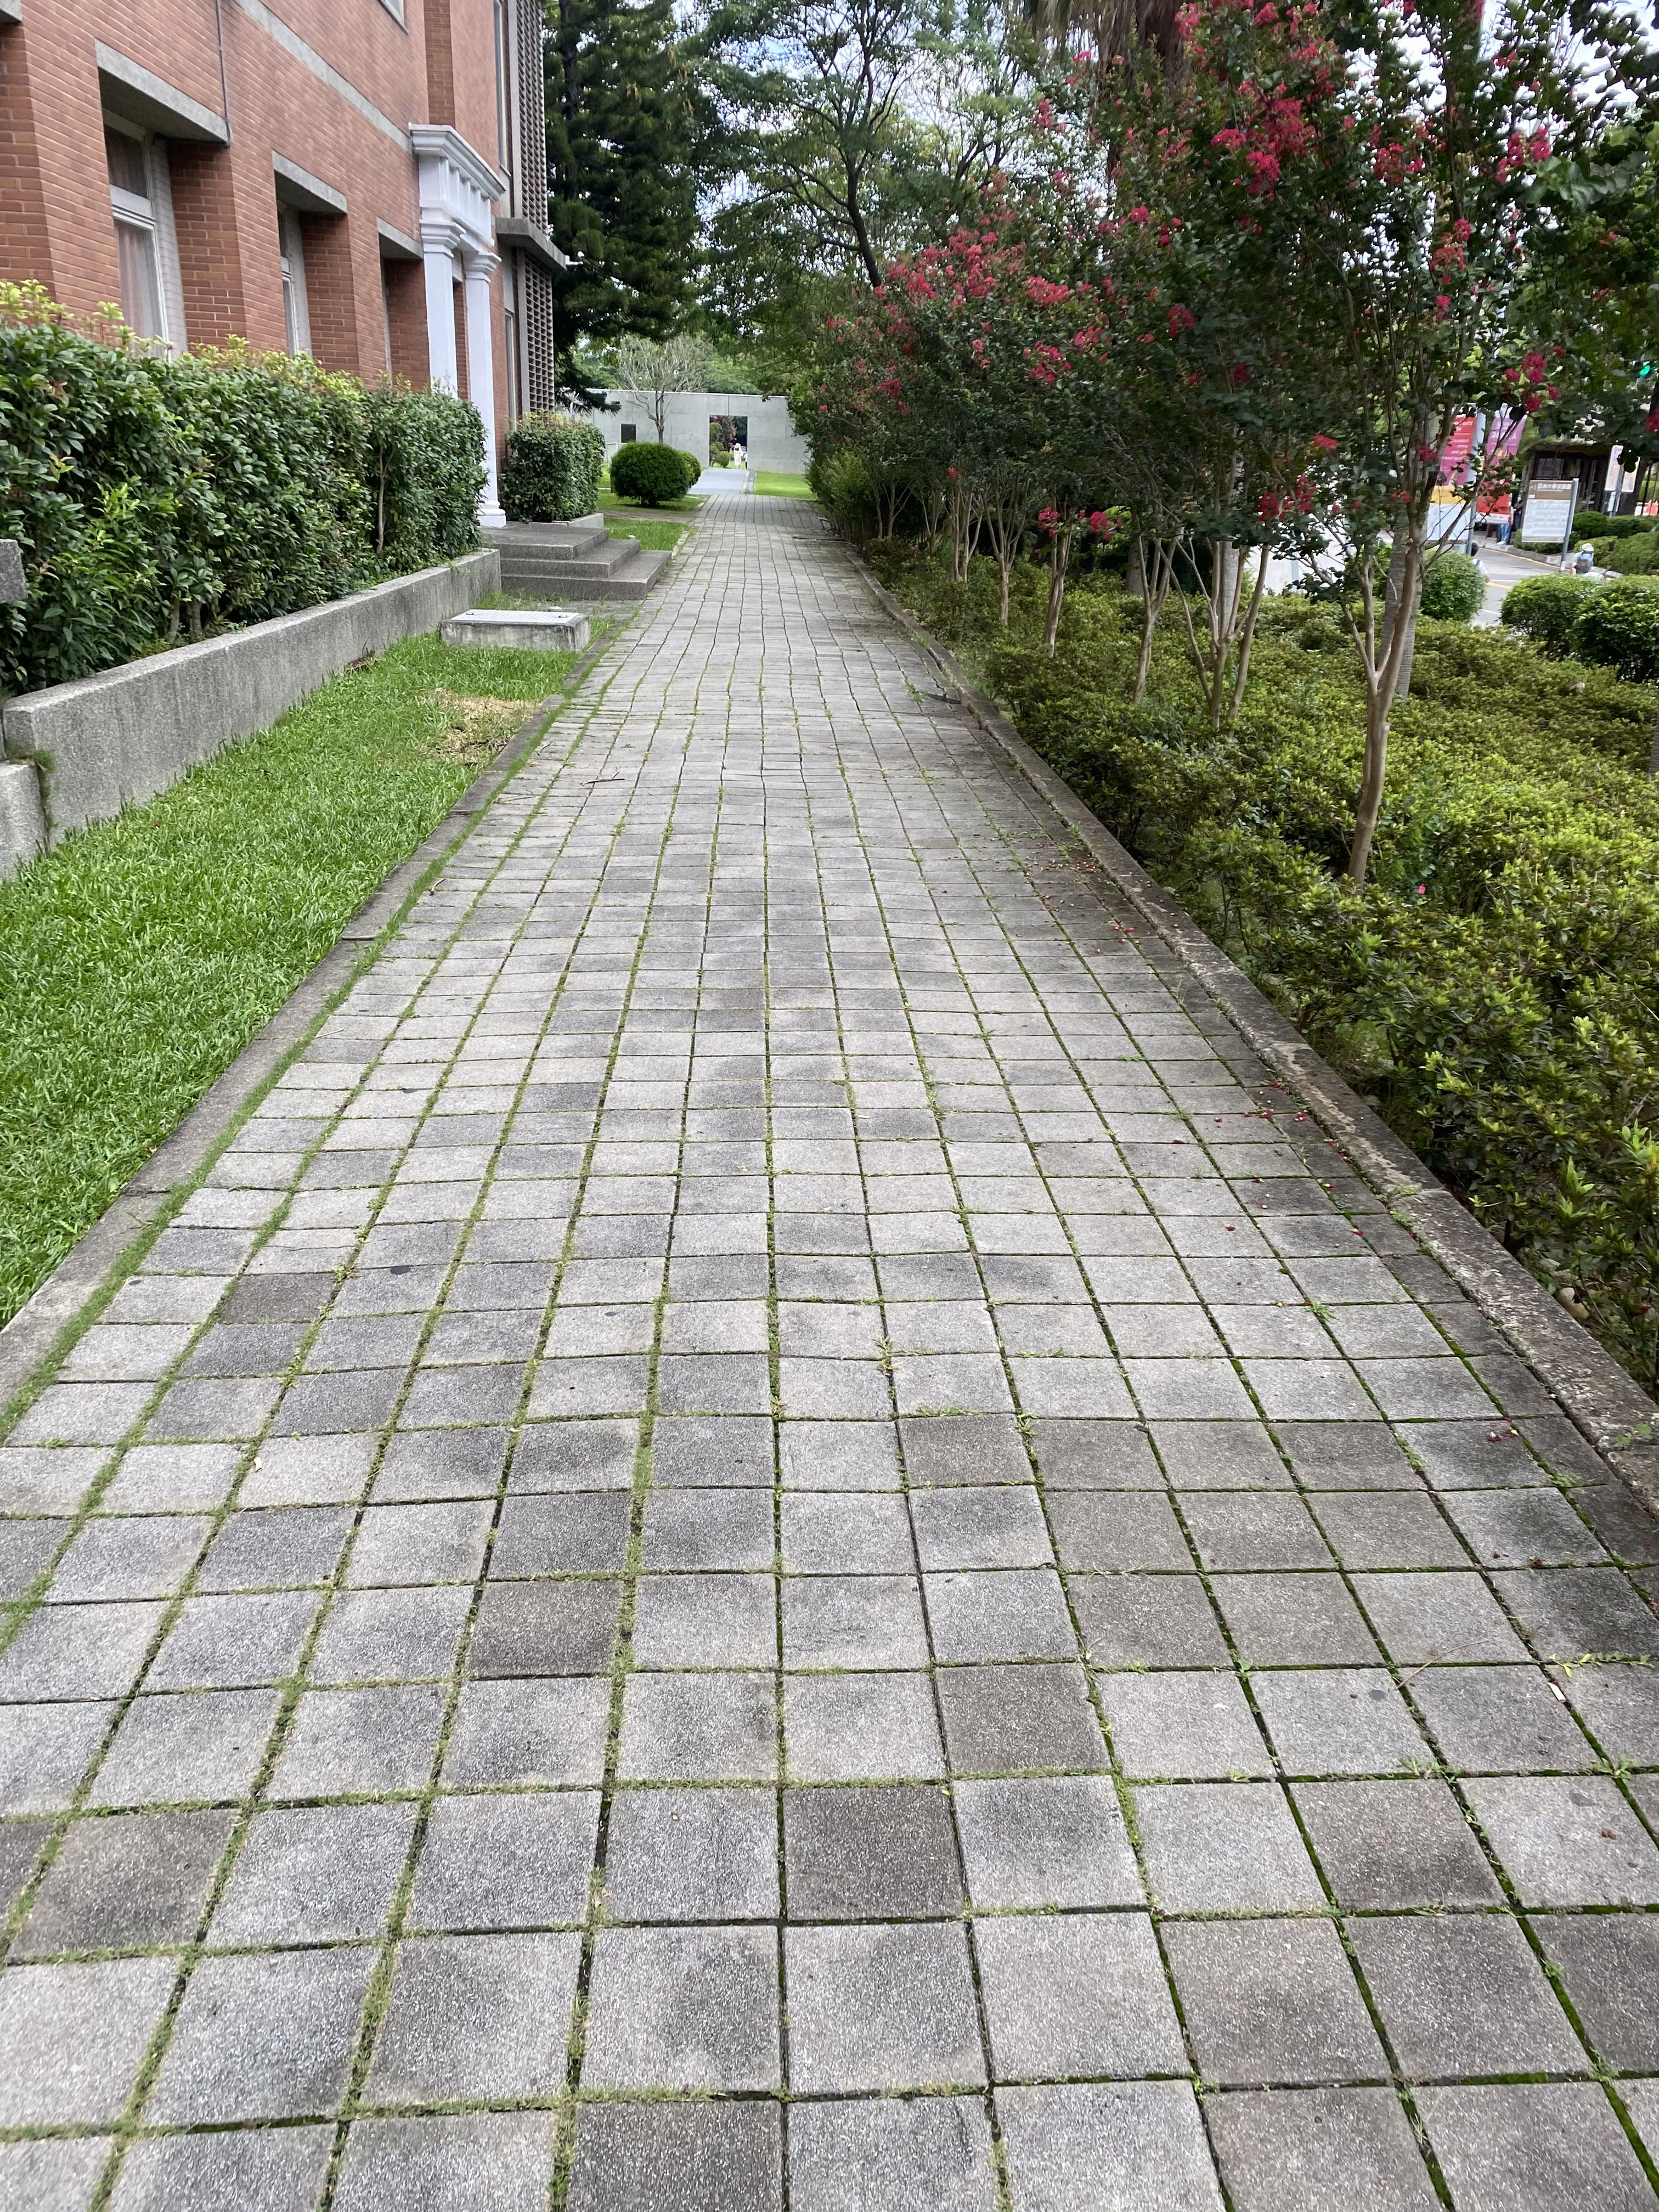0: (19, 914, 624, 2212)
sidewalk: (422, 455, 1659, 2210)
